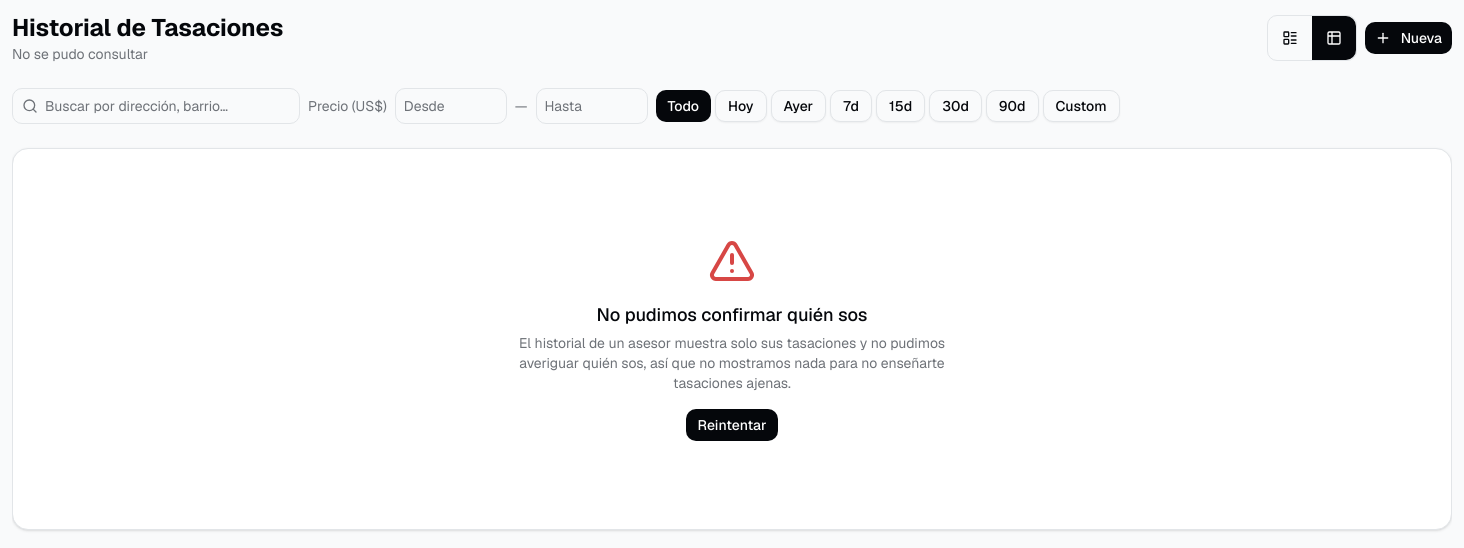
it: AppraisalsPage — identidad que falla: la pantalla lo DICE (D6) › un 500 ofrece Reintentar, y Reintentar vuelve a preguntar quién sos
Expected: the heading "No pudimos confirmar quién sos" is shown, [596,301,868,329]
Click the button "Reintentar".
click(732, 425)  # box [686,409,778,441]
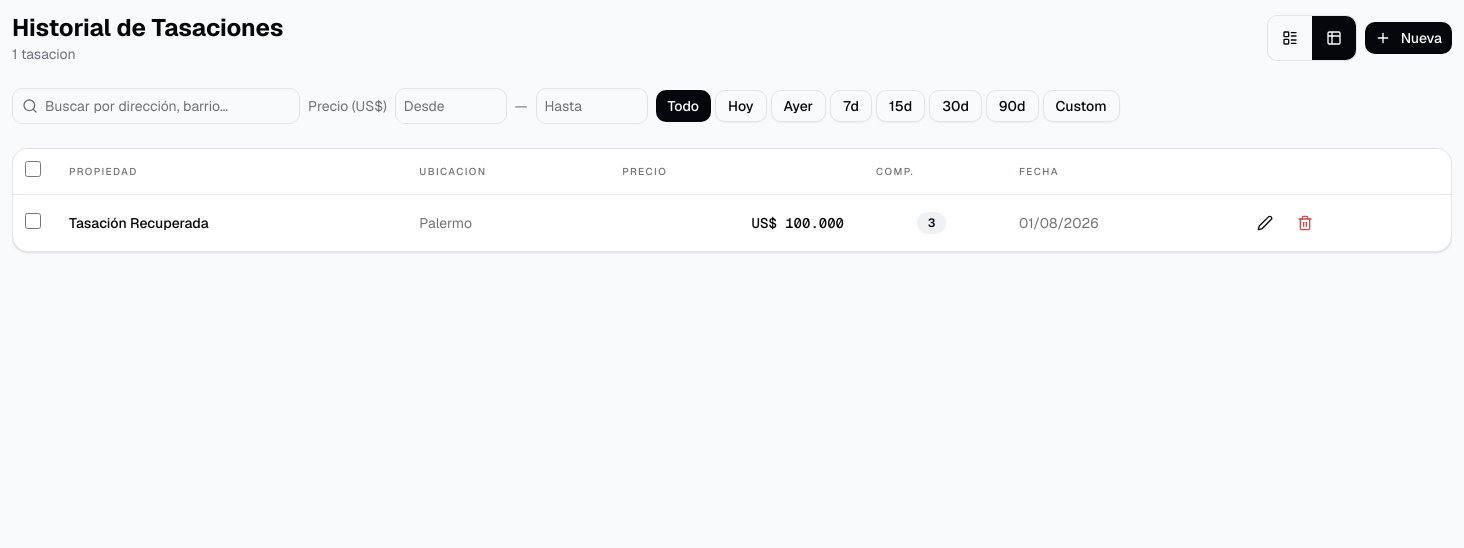
Now the text "Tasación Recuperada" is shown, box [69,214,209,232]
Now the heading "No pudimos confirmar quién sos" is gone
